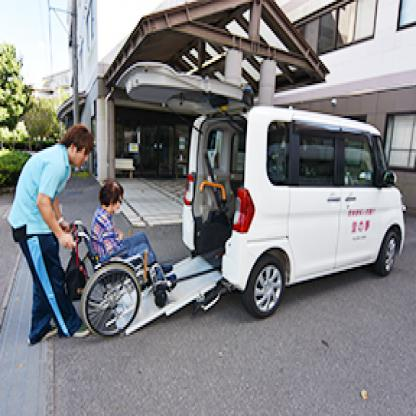wheelchair: (76, 172, 174, 337)
